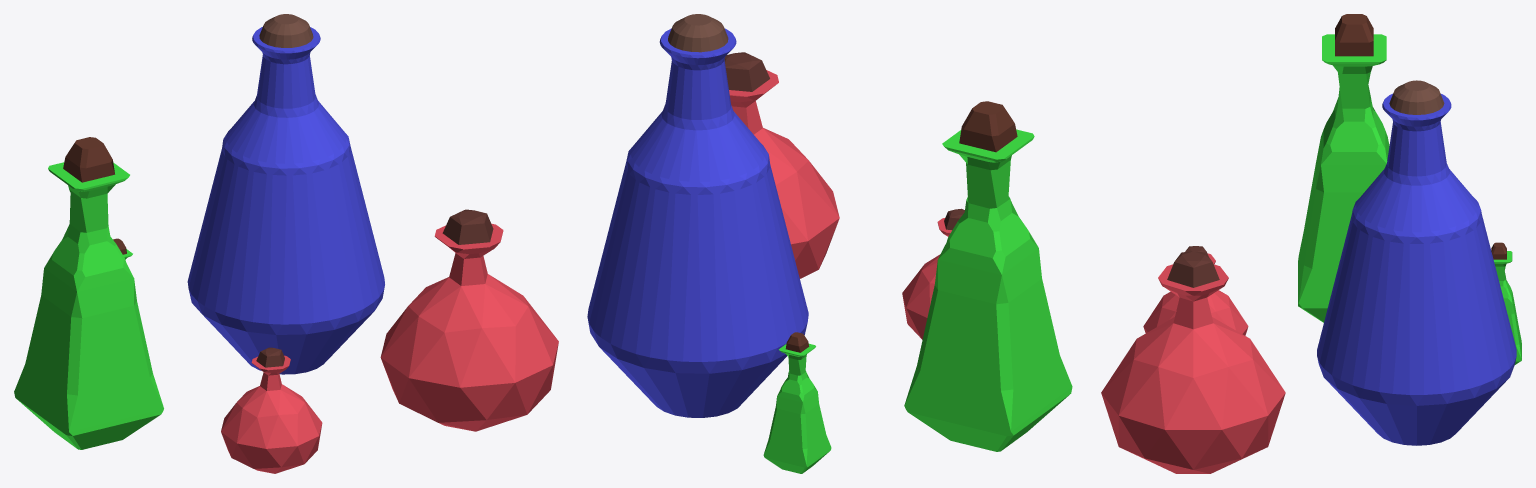
The model's file is Potion-ustawienie2.fbx.
3 renders of one model, left to right at view 1: azimuth 30°, elevation 25°; view 2: azimuth 150°, elevation 25°; view 3: azimuth 270°, elevation 25°, orthographic. The views are drawn at different scales.
Parts seen in each view (by area): view 1: Cube.001; view 2: Cube.001; view 3: Cube.001.
Boxes of the visible parts, box(x1,y1,x2,y2) form: Cube.001: box(14, 14, 558, 473); Cube.001: box(587, 14, 1072, 473); Cube.001: box(1101, 14, 1521, 473).
Size of the model in its own units: 415 by 316 by 352.
